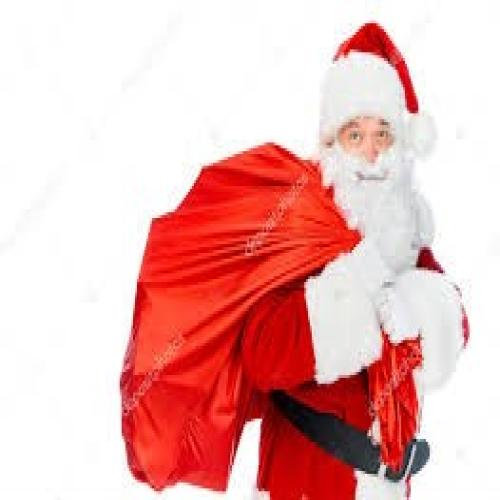Santa: (240, 23, 470, 500)
